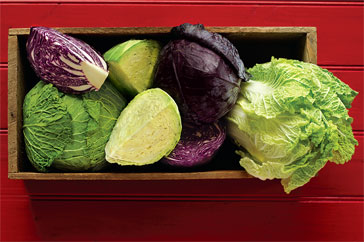cabbage: (230, 57, 358, 194), (22, 78, 128, 172)
